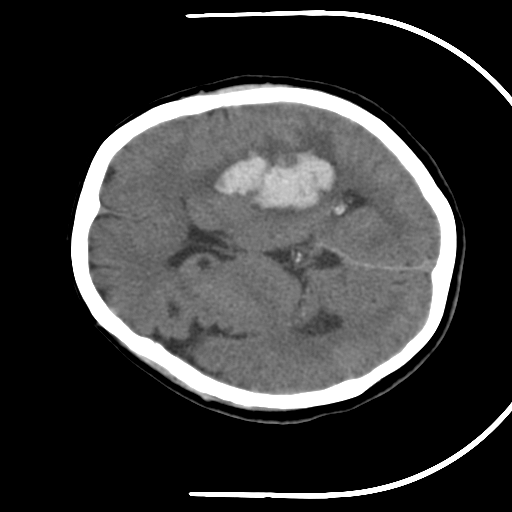a: (193, 121, 346, 225)
